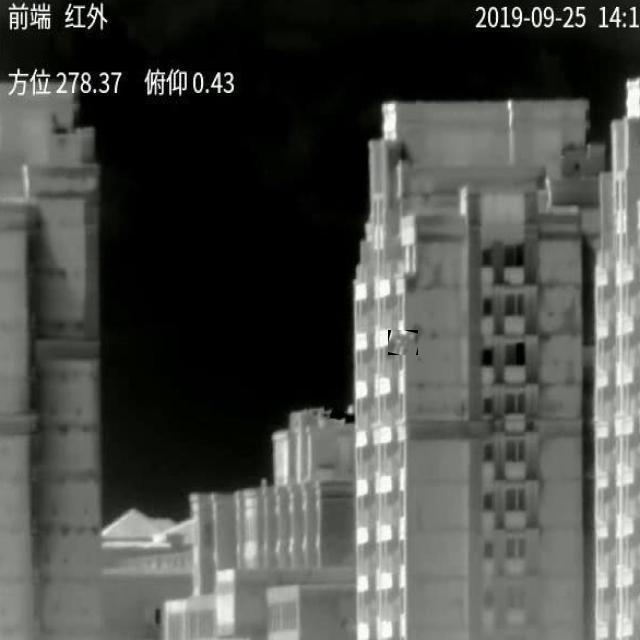drone: (391, 330, 418, 355)
